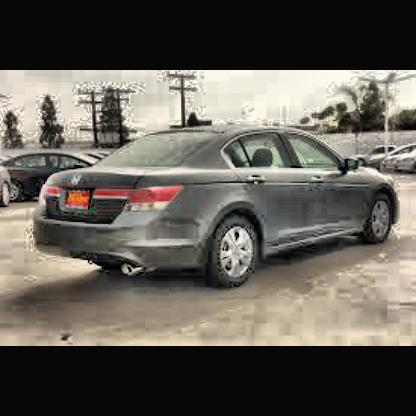Honda Accord Sedan 2012: (36, 128, 399, 289)
